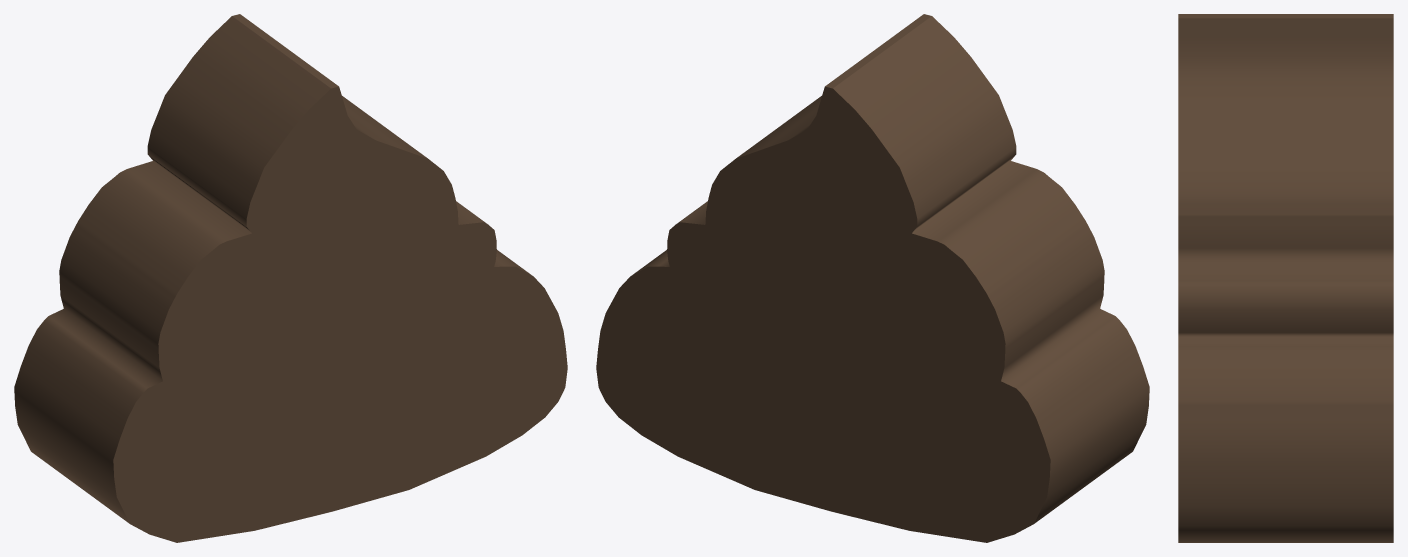
File: Poop.fbx
The picture shows the model from 3 angles, left to right: view 1: azimuth 30°, elevation 25°; view 2: azimuth 150°, elevation 25°; view 3: azimuth 270°, elevation 25°; orthographic projection. The views are drawn at different scales.
Parts seen in each view (by area): view 1: pCube1; view 2: pCube1; view 3: pCube1.
Part boxes in pixels (left/top/right/bottom): pCube1: left=14, top=14, right=567, bottom=542; pCube1: left=596, top=14, right=1149, bottom=542; pCube1: left=1178, top=14, right=1393, bottom=542.
Size of the model in its own units: 132 by 118 by 50.
